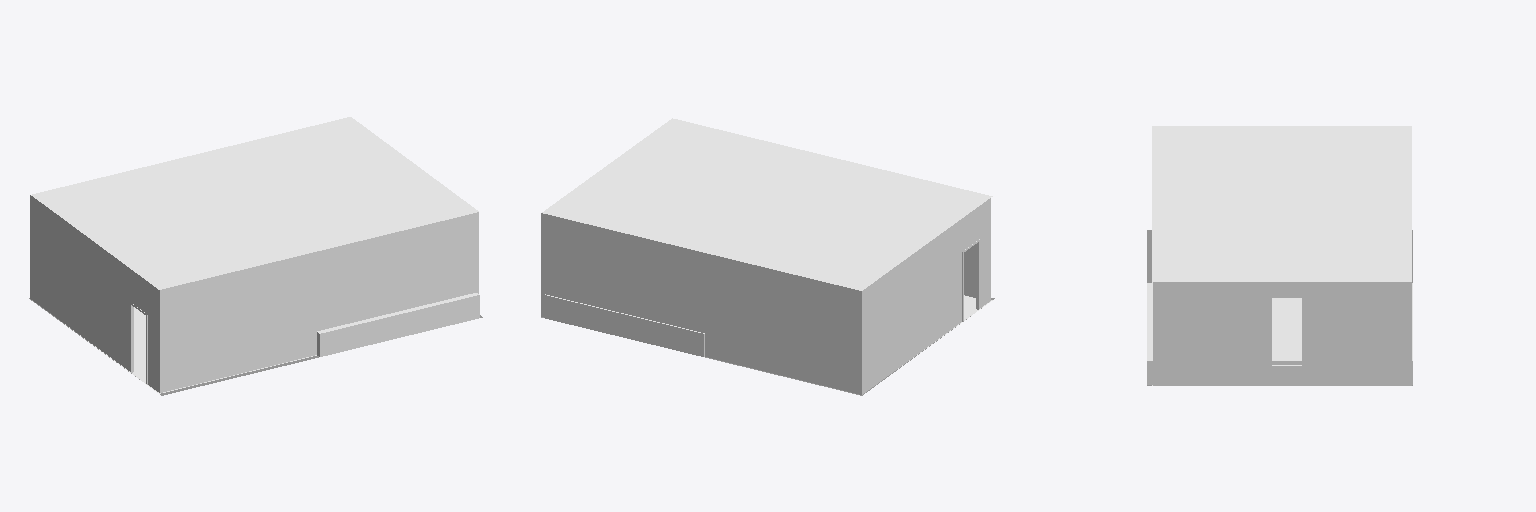
The model's file is Elevación.obj.
3 views of the same model, side by side, from view 1: azimuth 30°, elevation 25°; view 2: azimuth 150°, elevation 25°; view 3: azimuth 270°, elevation 25° (orthographic).
Visible parts, largest first — view 1: room_6_33, wall_2_10, wall_3_17, front_50, room_6_32; view 2: room_6_33, wall_1_4, wall_3_17, back_49, wall_2_11; view 3: room_6_33, wall_5_28, top_46.
Part boxes in pixels (x1,y1,x2,y2): room_6_33: (32, 118, 476, 289); wall_2_10: (159, 212, 478, 392); wall_3_17: (30, 195, 157, 391); front_50: (320, 295, 479, 356); room_6_32: (65, 307, 316, 393); room_6_33: (544, 118, 992, 290); wall_1_4: (541, 213, 861, 394); wall_3_17: (862, 199, 989, 394); back_49: (544, 295, 703, 356); wall_2_11: (964, 244, 975, 297); room_6_33: (1152, 126, 1410, 281); wall_5_28: (1153, 282, 1411, 385); top_46: (1147, 283, 1412, 360).
Bounding box in the file's own units: 1004 × 310 × 720.